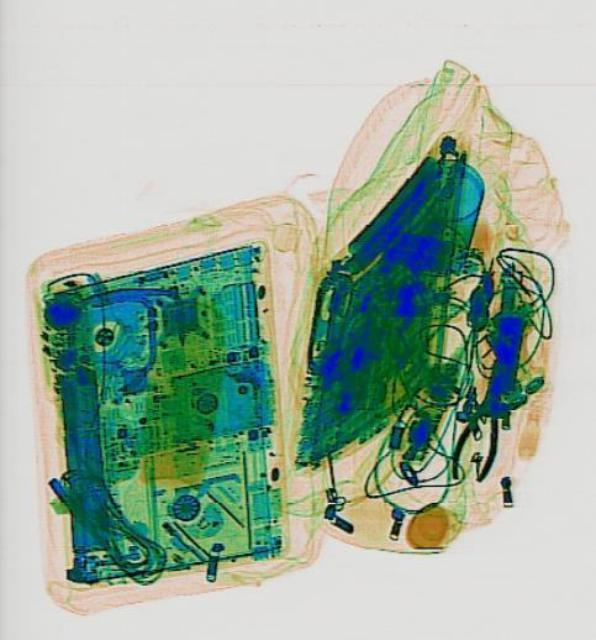Pliers: (441, 349, 524, 486)
